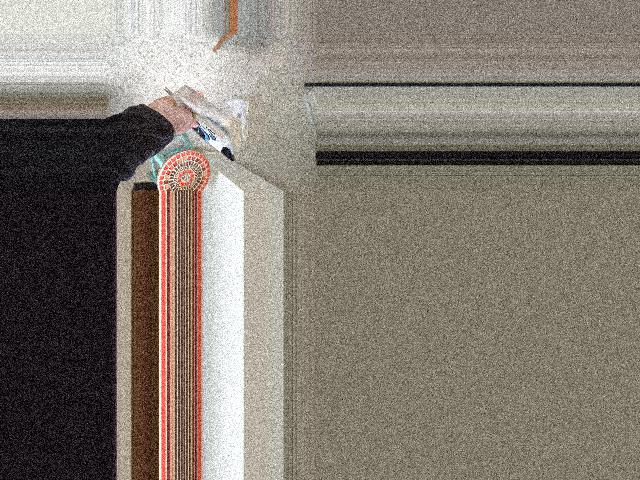cheese: (150, 76, 255, 172)
